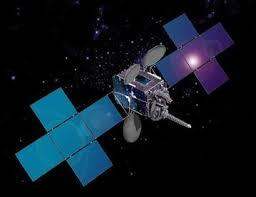antenna: (121, 112, 144, 145), (140, 43, 168, 69), (160, 109, 192, 130), (122, 62, 142, 87)
body: (111, 65, 172, 123)
solar: (13, 86, 126, 189), (154, 10, 237, 96)
